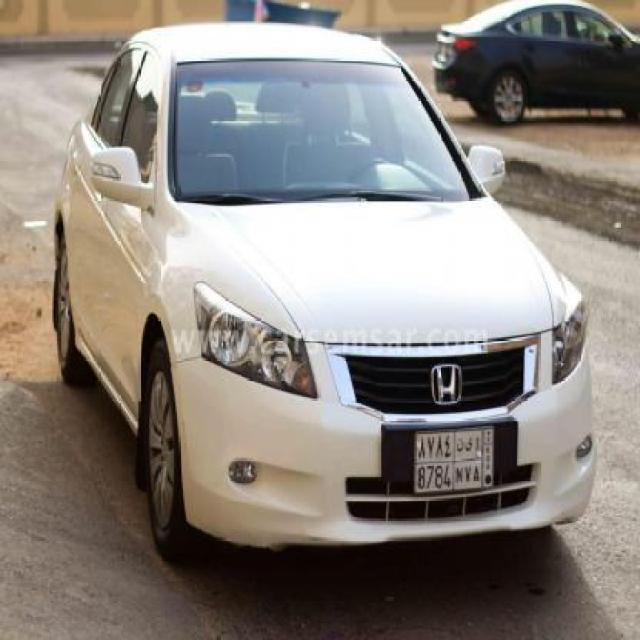license_plate: (412, 421, 497, 497)
